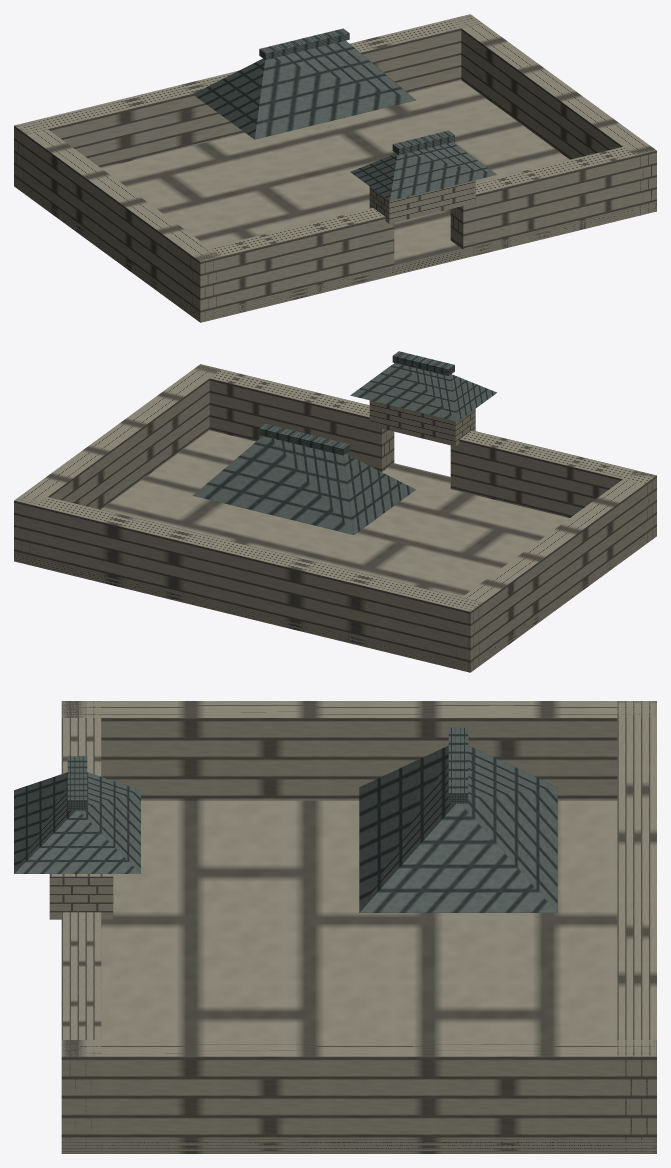
File: city2-lod2.glb
3 renders of one model, top to bottom at view 1: azimuth 30°, elevation 25°; view 2: azimuth 150°, elevation 25°; view 3: azimuth 270°, elevation 25°, orthographic. The views are drawn at different scales.
Size of the model in its own units: 2.12 by 0.6 by 1.62.
1 material, 1 textured.
